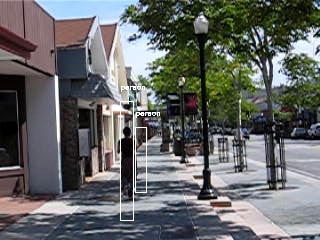person: (115, 129, 138, 203), (114, 129, 137, 203), (116, 129, 139, 203), (115, 128, 138, 202), (115, 130, 138, 204)
target_negative: (67, 42, 314, 186), (86, 66, 314, 202), (147, 185, 283, 222), (287, 18, 320, 136), (225, 220, 273, 237), (84, 237, 136, 240)
